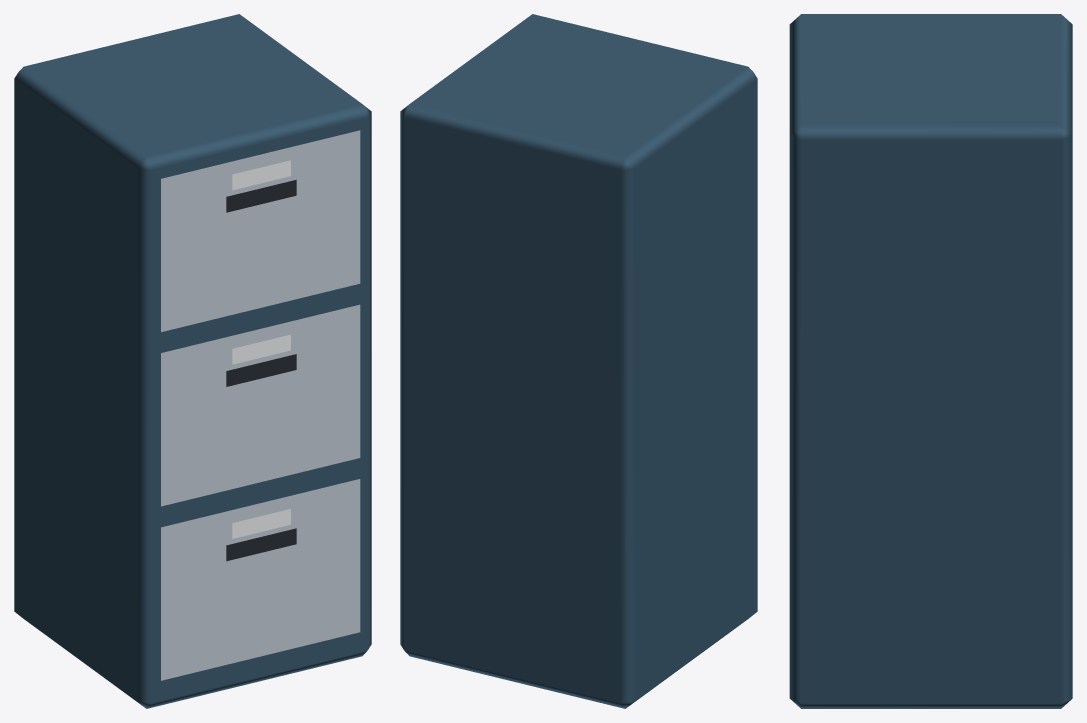
Rendered from CM_Interior_FilingCabinet.fbx.
The picture shows the model from 3 angles, left to right: view 1: azimuth 30°, elevation 25°; view 2: azimuth 150°, elevation 25°; view 3: azimuth 270°, elevation 25°; orthographic projection. The views are drawn at different scales.
Parts seen in each view (by area): view 1: Body; view 2: Body; view 3: Body.
Part boxes in pixels (left/top/right/bottom): Body: left=14, top=14, right=371, bottom=708; Body: left=400, top=14, right=757, bottom=708; Body: left=789, top=14, right=1072, bottom=708.
Size of the model in its own units: 2 by 2 by 4.5.
1 material, 1 textured.
